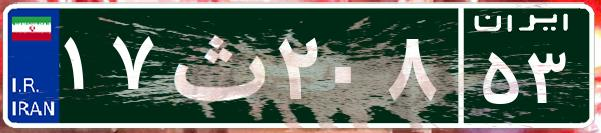0: (330, 28, 385, 110)
1: (57, 26, 110, 107)
2: (273, 28, 330, 110)
3: (525, 38, 570, 115)
5: (475, 38, 525, 113)
7: (110, 28, 158, 105)
8: (385, 28, 445, 110)
ث: (158, 15, 273, 115)
